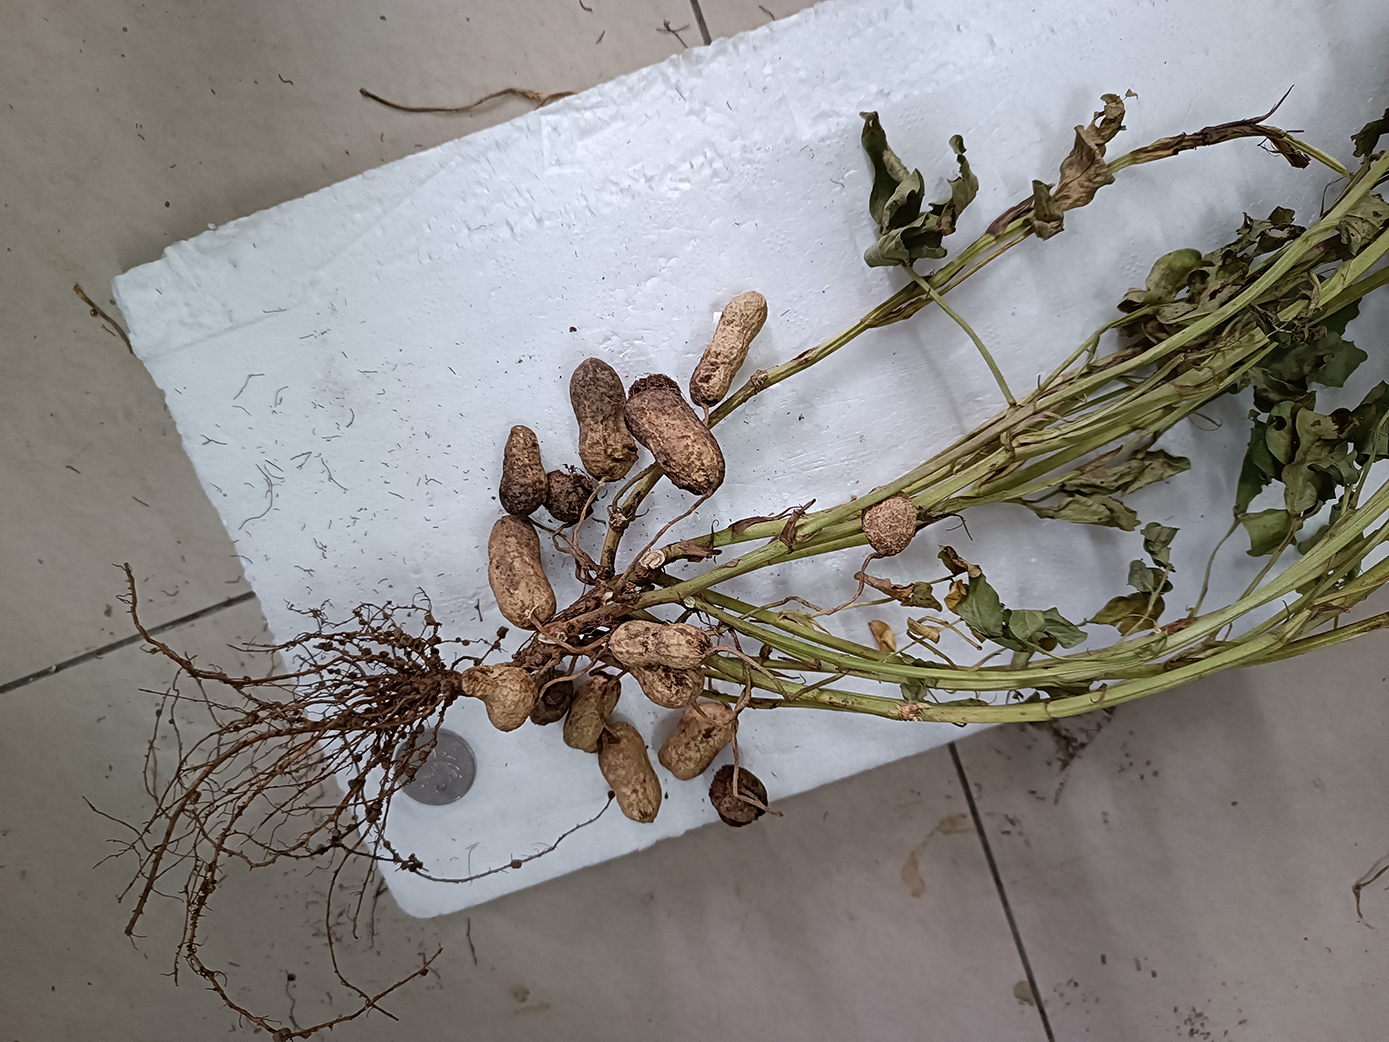h: (688, 290, 768, 408), (485, 516, 559, 630), (658, 702, 738, 785), (598, 723, 662, 822), (459, 658, 533, 730), (607, 620, 707, 665), (563, 676, 620, 750), (863, 486, 916, 558), (626, 665, 705, 708)
l: (627, 375, 724, 493), (568, 358, 637, 481), (497, 421, 547, 520), (708, 764, 768, 827), (531, 670, 576, 726), (549, 472, 590, 524)
